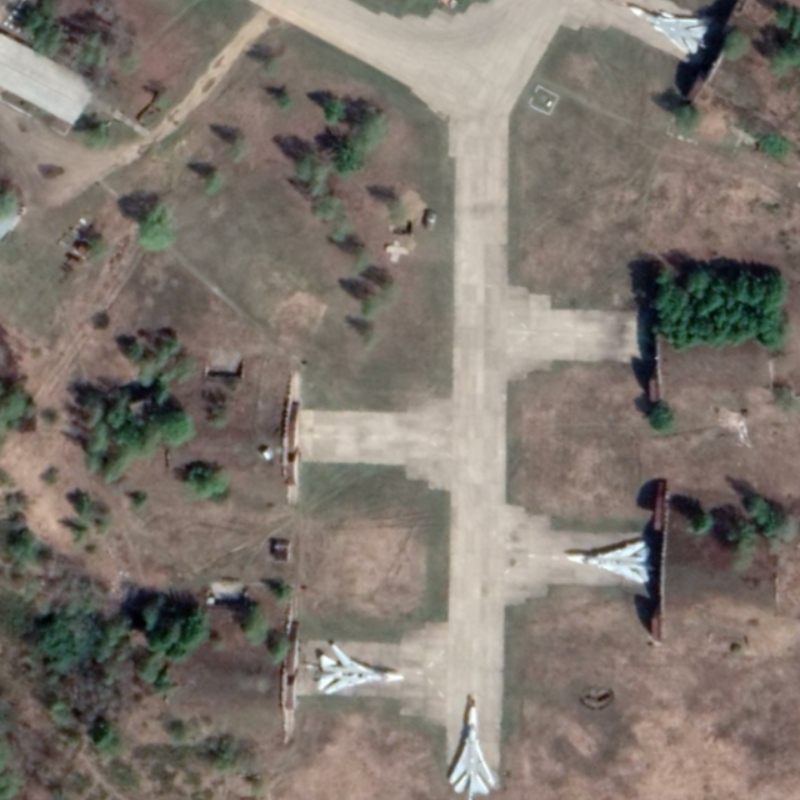A20: (446, 703, 497, 800), (315, 643, 406, 696), (627, 4, 711, 56), (565, 539, 653, 586)
